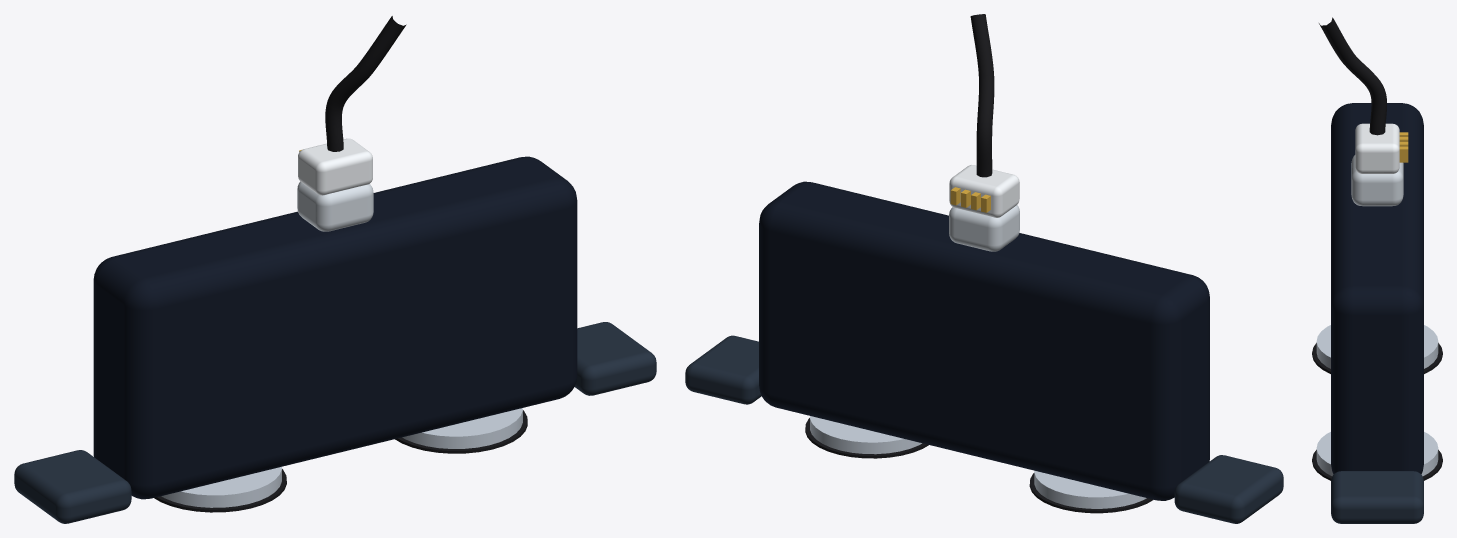
Rendered from reference.glb.
3 renders of one model, left to right at view 1: azimuth 30°, elevation 25°; view 2: azimuth 150°, elevation 25°; view 3: azimuth 270°, elevation 25°, orthographic. The views are drawn at different scales.
Parts seen in each view (by area): view 1: SEN0311 housing 63.6x29.6x12.5 mm, SEN0311 left mounting ear, A02YYUW ultrasonic transducer (×2), SEN0311 right mounting ear, SEN0311 PH2.0-4P connector, SEN0311 cable strain relief, SEN0311 cable tail — 300 mm documented, A02YYUW transducer seal ring (×2); view 2: SEN0311 housing 63.6x29.6x12.5 mm, SEN0311 left mounting ear, A02YYUW ultrasonic transducer (×2), SEN0311 right mounting ear, SEN0311 cable tail — 300 mm documented, SEN0311 cable strain relief, SEN0311 PH2.0-4P connector, A02YYUW transducer seal ring (×2); view 3: SEN0311 housing 63.6x29.6x12.5 mm, SEN0311 right mounting ear, SEN0311 PH2.0-4P connector, A02YYUW ultrasonic transducer (×2), SEN0311 cable tail — 300 mm documented, SEN0311 cable strain relief, A02YYUW transducer seal ring (×2).
Part boxes in pixels (x1,y1,x2,y2): SEN0311 housing 63.6x29.6x12.5 mm: [93, 156, 577, 499]; SEN0311 left mounting ear: [14, 450, 131, 523]; A02YYUW ultrasonic transducer (×2): [161, 408, 522, 507]; SEN0311 right mounting ear: [574, 322, 656, 395]; SEN0311 PH2.0-4P connector: [298, 138, 372, 195]; SEN0311 cable strain relief: [297, 181, 373, 231]; SEN0311 cable tail — 300 mm documented: [325, 16, 406, 151]; A02YYUW transducer seal ring (×2): [154, 410, 527, 512]; SEN0311 housing 63.6x29.6x12.5 mm: [759, 181, 1209, 500]; SEN0311 left mounting ear: [1174, 455, 1283, 523]; A02YYUW ultrasonic transducer (×2): [810, 416, 1146, 508]; SEN0311 right mounting ear: [685, 335, 761, 404]; SEN0311 cable tail — 300 mm documented: [970, 14, 994, 177]; SEN0311 cable strain relief: [949, 205, 1019, 251]; SEN0311 PH2.0-4P connector: [949, 165, 1019, 217]; A02YYUW transducer seal ring (×2): [805, 418, 1153, 513]; SEN0311 housing 63.6x29.6x12.5 mm: [1331, 103, 1423, 474]; SEN0311 right mounting ear: [1331, 471, 1423, 523]; SEN0311 PH2.0-4P connector: [1355, 123, 1399, 173]; A02YYUW ultrasonic transducer (×2): [1316, 325, 1438, 476]; SEN0311 cable tail — 300 mm documented: [1319, 17, 1386, 135]; SEN0311 cable strain relief: [1351, 155, 1403, 206]; A02YYUW transducer seal ring (×2): [1312, 343, 1442, 480].
Bounding box in the file's own units: 84.6 × 60.57 × 17.6.
